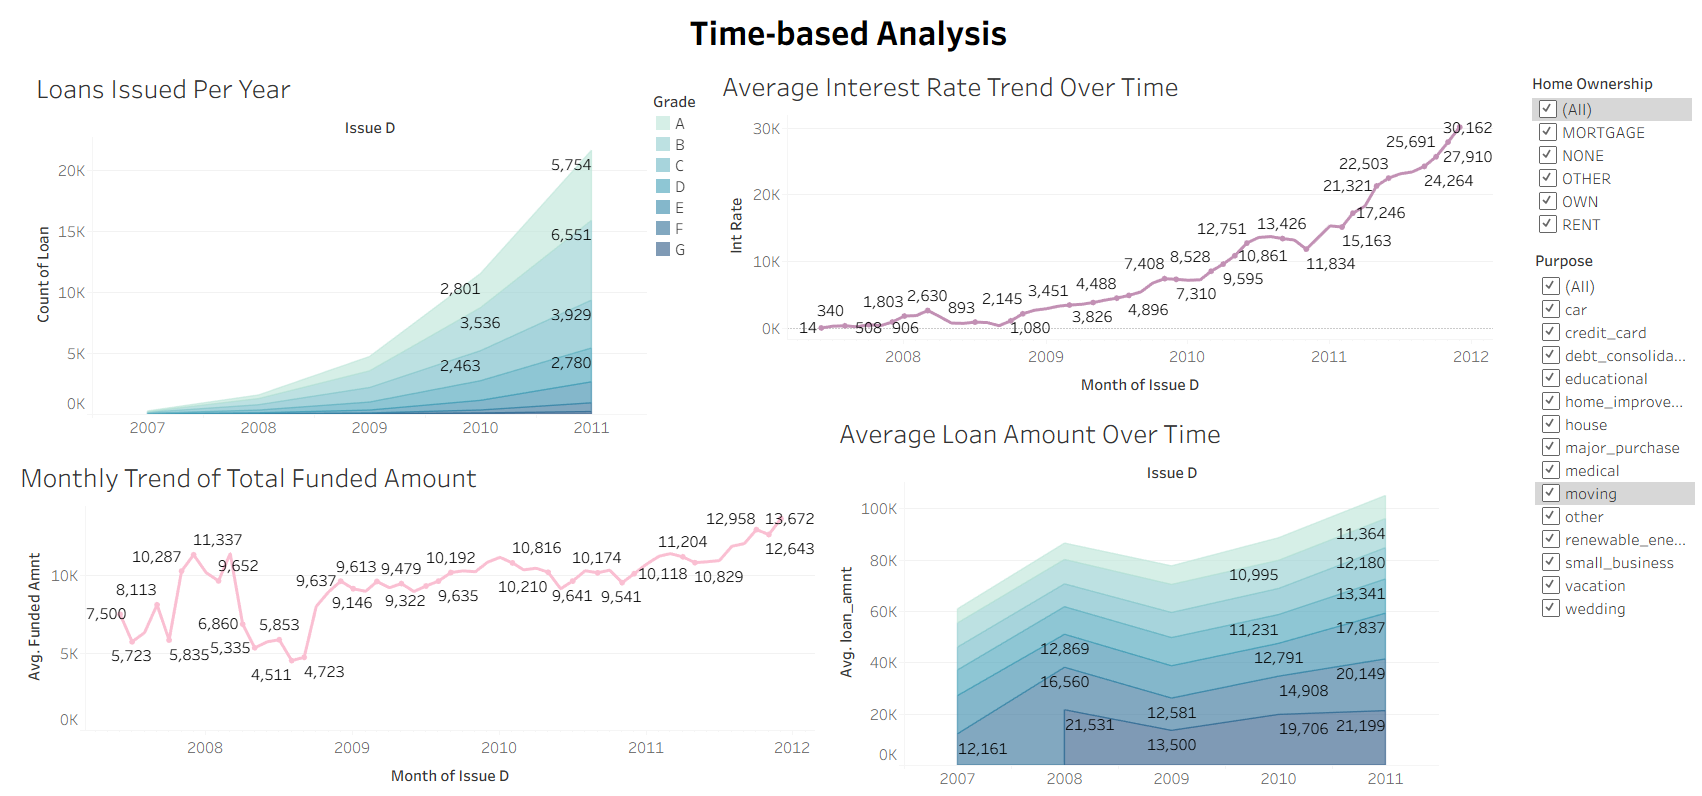

The dashboard page shown, as its layout file describes it:
{"tool":"tableau","page":{"name":"Time-Based Analysis","canvas":[1000,1000],"units":"permille","ordinal":3},"visuals":[{"type":"title","box":[4.7,10,990.6,66.2]},{"type":"worksheet","title":"Average Interest Rate Trend Over Time","mark":"Automatic","rows":["int_rate"],"cols":["issue_d"],"box":[423.6,84.9,454,420.7]},{"type":"worksheet","title":"Loans Issued Per Year","mark":"Area","rows":["Calculation_2661627427349114884"],"cols":["issue_d"],"box":[21.7,87.4,360.3,464.4]},{"type":"filter","title":"Loans Issued Per Year","param":"[federated.1oazph415arqml1f6i4t30bievzv].[none:home_ownership:nk]","box":[900.4,94.9,93.7,207.2]},{"type":"legend","title":"Loans Issued Per Year","param":"[federated.1oazph415arqml1f6i4t30bievzv].[none:grade:nk]","box":[385.5,117.4,38.7,211]},{"type":"filter","title":"Loans Issued Per Year","param":"[federated.1oazph415arqml1f6i4t30bievzv].[none:purpose:nk]","box":[902.2,315.9,93.7,465.7]},{"type":"worksheet","title":"Average Loan Amount Over Time","mark":"Area","rows":["loan_amnt"],"cols":["issue_d"],"box":[492.1,518.1,353.8,471.9]},{"type":"worksheet","title":"Monthly Trend of Total Funded Amount","mark":"Automatic","rows":["funded_amnt"],"cols":["issue_d"],"box":[12.3,573,468.1,420.7]}]}

Visuals, with their boxes on the dashboard's canvas, which has no fixed pixel size, in thousandths of its width and height (x1, y1, x2, y2). These are canvas units, not pixel positions in the 1702x796 screenshot, which may show the page scaled, cropped or inside an application window:
title: l=5, t=10, r=995, b=76
"Average Interest Rate Trend Over Time" worksheet: l=424, t=85, r=878, b=506
"Loans Issued Per Year" worksheet (Area marks): l=22, t=87, r=382, b=552
"Loans Issued Per Year" filter: l=900, t=95, r=994, b=302
"Loans Issued Per Year" legend: l=386, t=117, r=424, b=328
"Loans Issued Per Year" filter: l=902, t=316, r=996, b=782
"Average Loan Amount Over Time" worksheet (Area marks): l=492, t=518, r=846, b=990
"Monthly Trend of Total Funded Amount" worksheet: l=12, t=573, r=480, b=994
